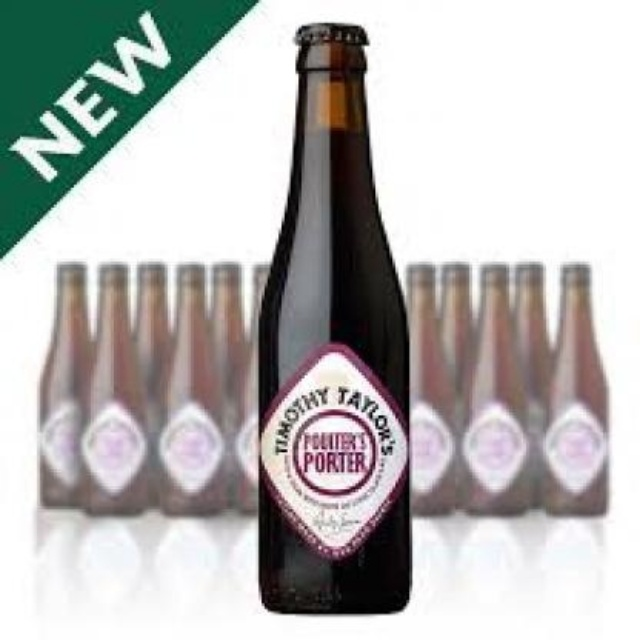trash: (258, 23, 409, 611)
